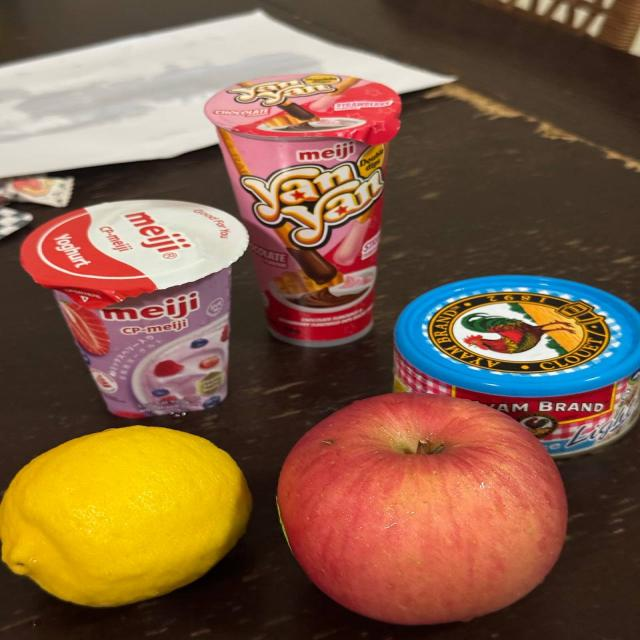apple: (258, 387, 578, 633)
lemon: (0, 421, 264, 613)
tuna-can: (386, 266, 640, 470)
yanyan-cracker: (193, 65, 409, 352)
yogurt: (20, 192, 258, 428)
